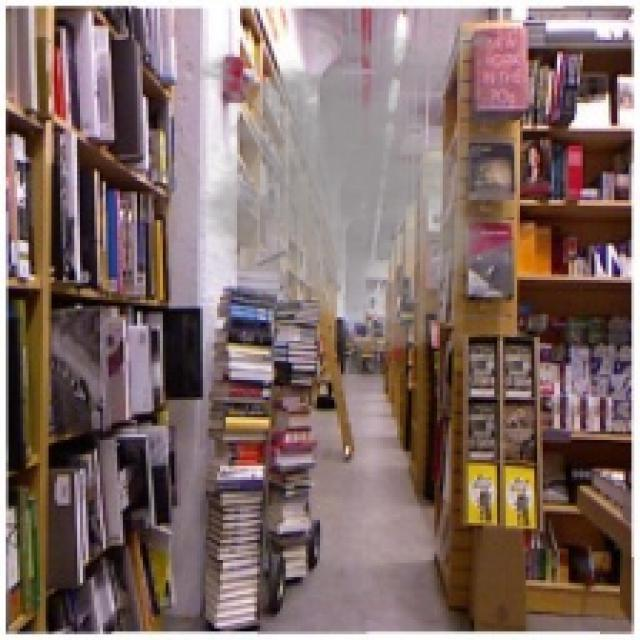Smoke: (134, 9, 552, 358)
